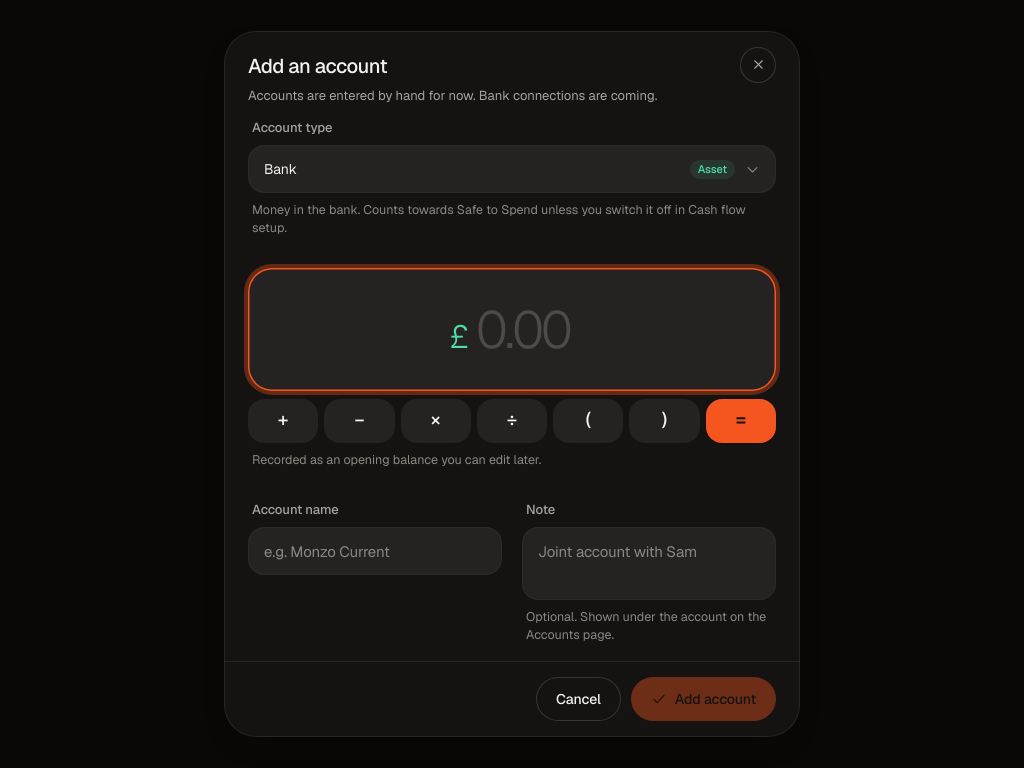
Test: the one question about what an account is › lists the groups under Assets and Liabilities
The width and height of the screenshot is (1024, 768).
Click the dropdown named "Account type": (280, 169) [248,145,776,193]
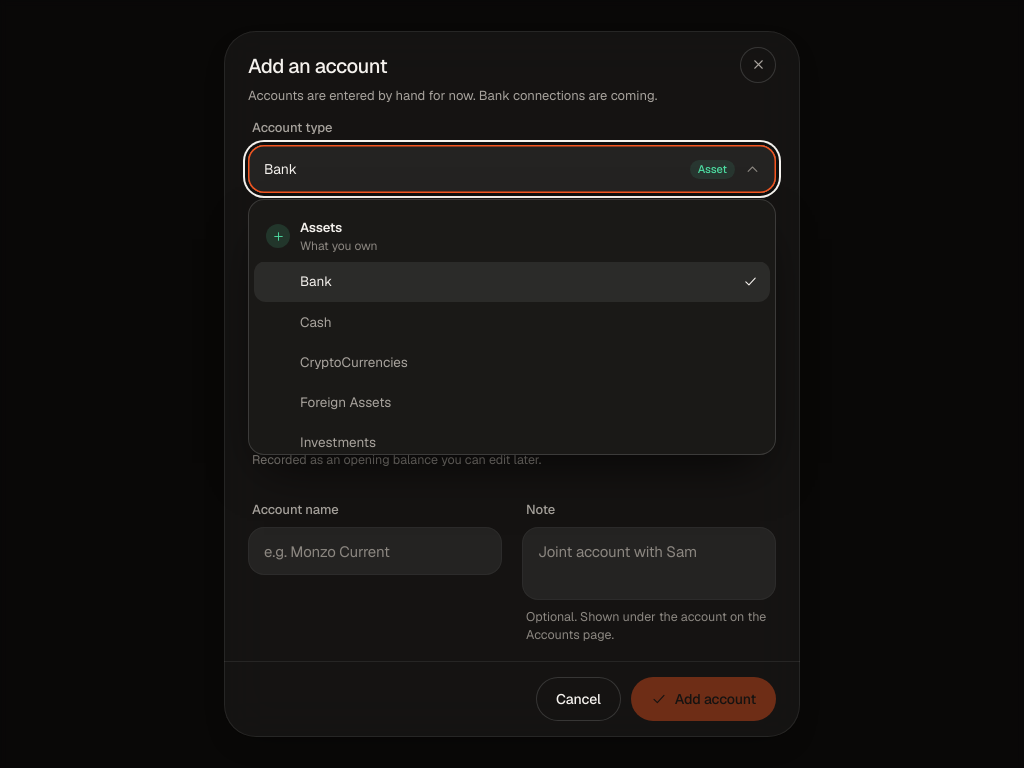
Check: the text "Assets" is shown, box [300,219,342,236]
